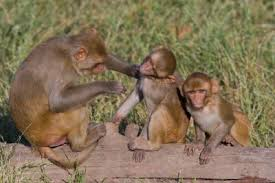monkey: (32, 21, 111, 139), (183, 50, 258, 169), (132, 28, 192, 159)
